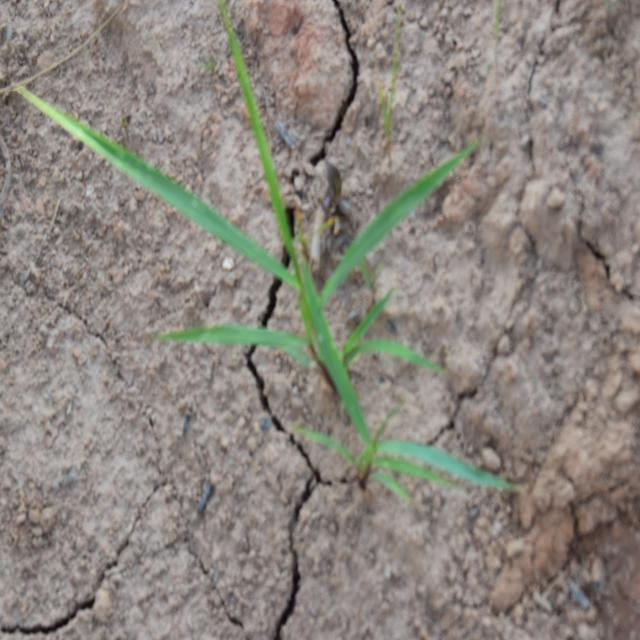green_foxtail: (65, 43, 406, 389), (303, 372, 527, 532)
